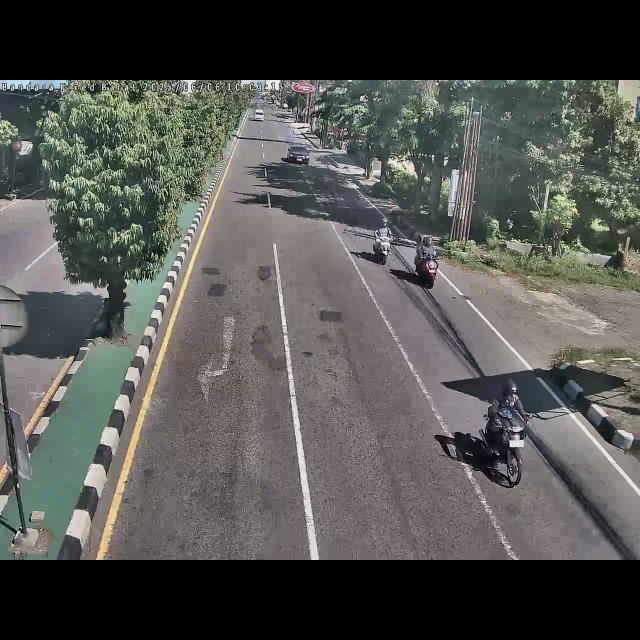Mobil: (286, 143, 312, 167)
Motor: (483, 374, 532, 488), (414, 232, 441, 292), (370, 210, 396, 268)
